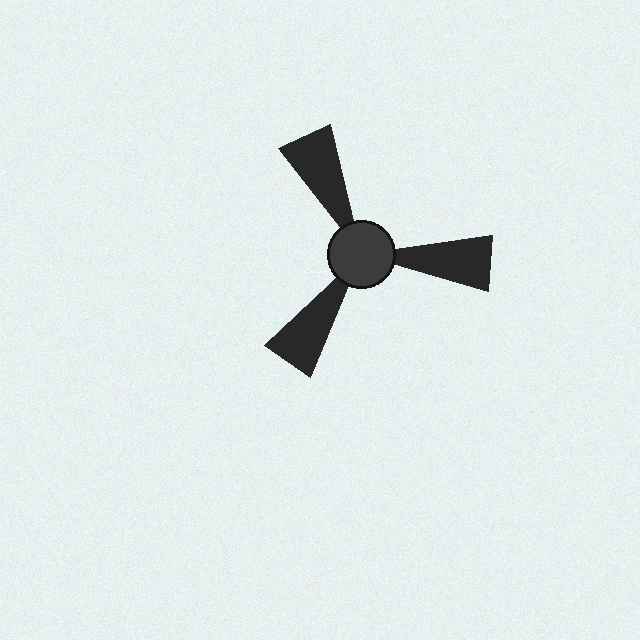fan: (201, 94, 521, 414)
